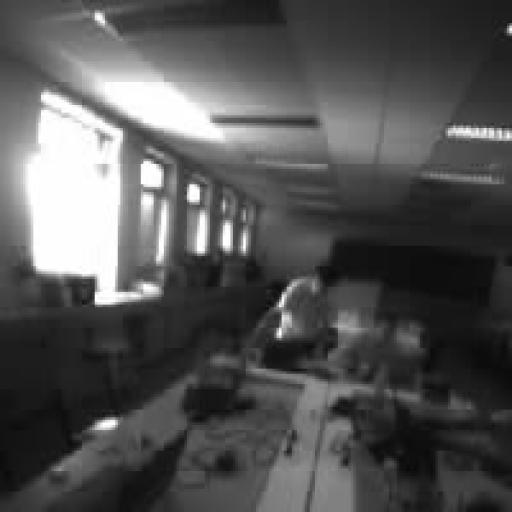human: (246, 264, 337, 371), (305, 318, 424, 386)
